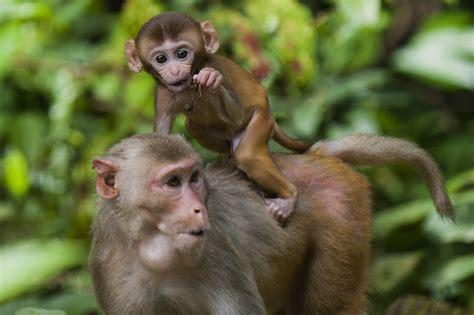monkey: (90, 133, 452, 314), (124, 14, 309, 222)
